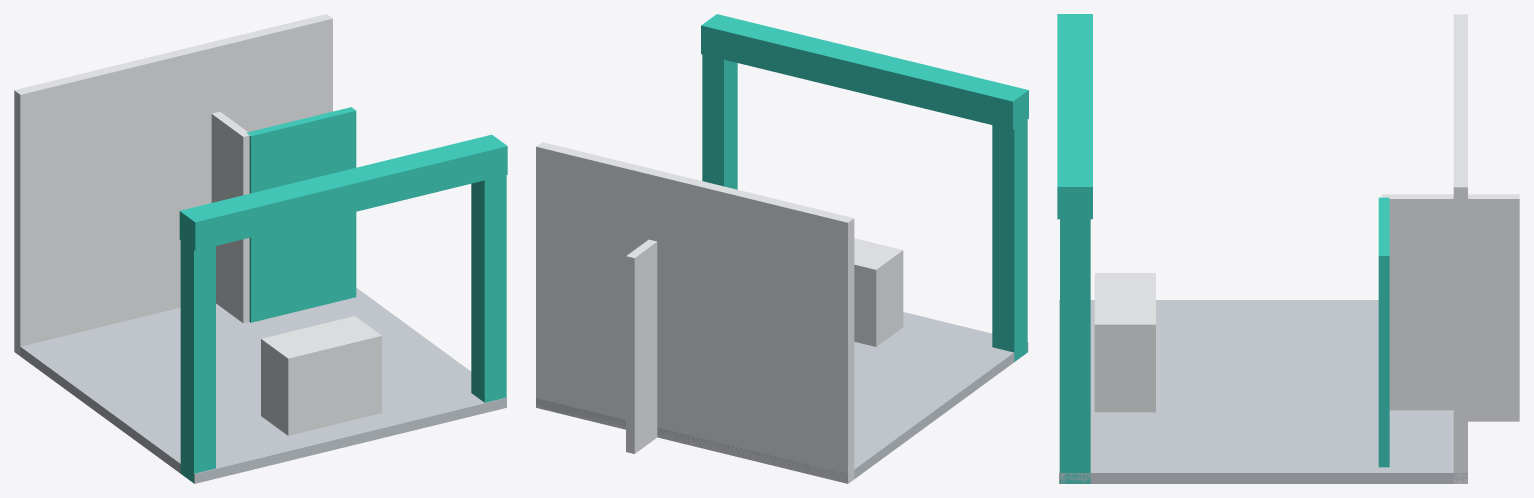
3 views of the same model, side by side, from view 1: azimuth 30°, elevation 25°; view 2: azimuth 150°, elevation 25°; view 3: azimuth 270°, elevation 25° (orthographic). The views are drawn at different scales.
Parts seen in each view (by area): view 1: Exhibition Booth Concept; view 2: Exhibition Booth Concept; view 3: Exhibition Booth Concept.
Boxes of the visible parts, left/top/right/bottom form: Exhibition Booth Concept: left=14, top=14, right=507, bottom=483; Exhibition Booth Concept: left=536, top=14, right=1028, bottom=483; Exhibition Booth Concept: left=1057, top=14, right=1519, bottom=483.
Size of the model in its own units: 4 by 3.2 by 4.52.
